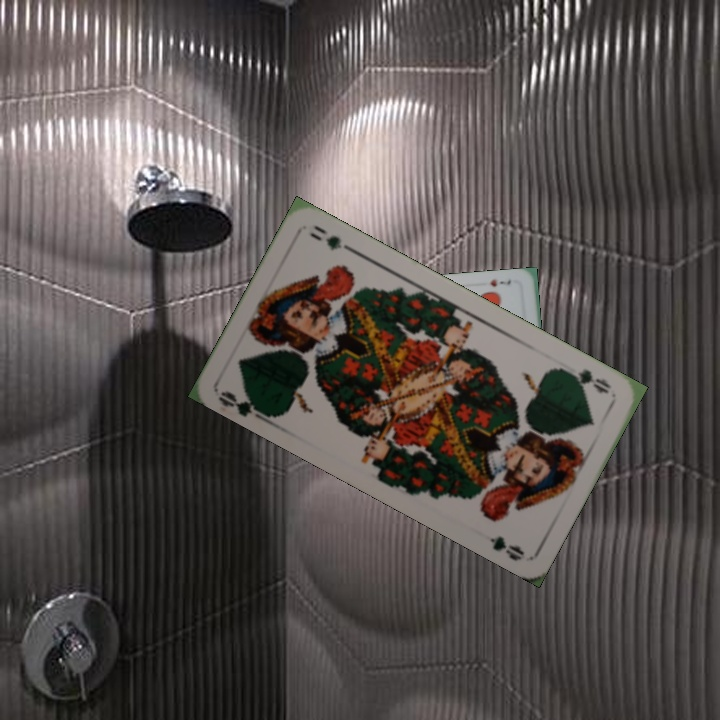GO: (214, 387, 274, 425), (560, 365, 615, 397)
H7: (486, 275, 514, 289)
